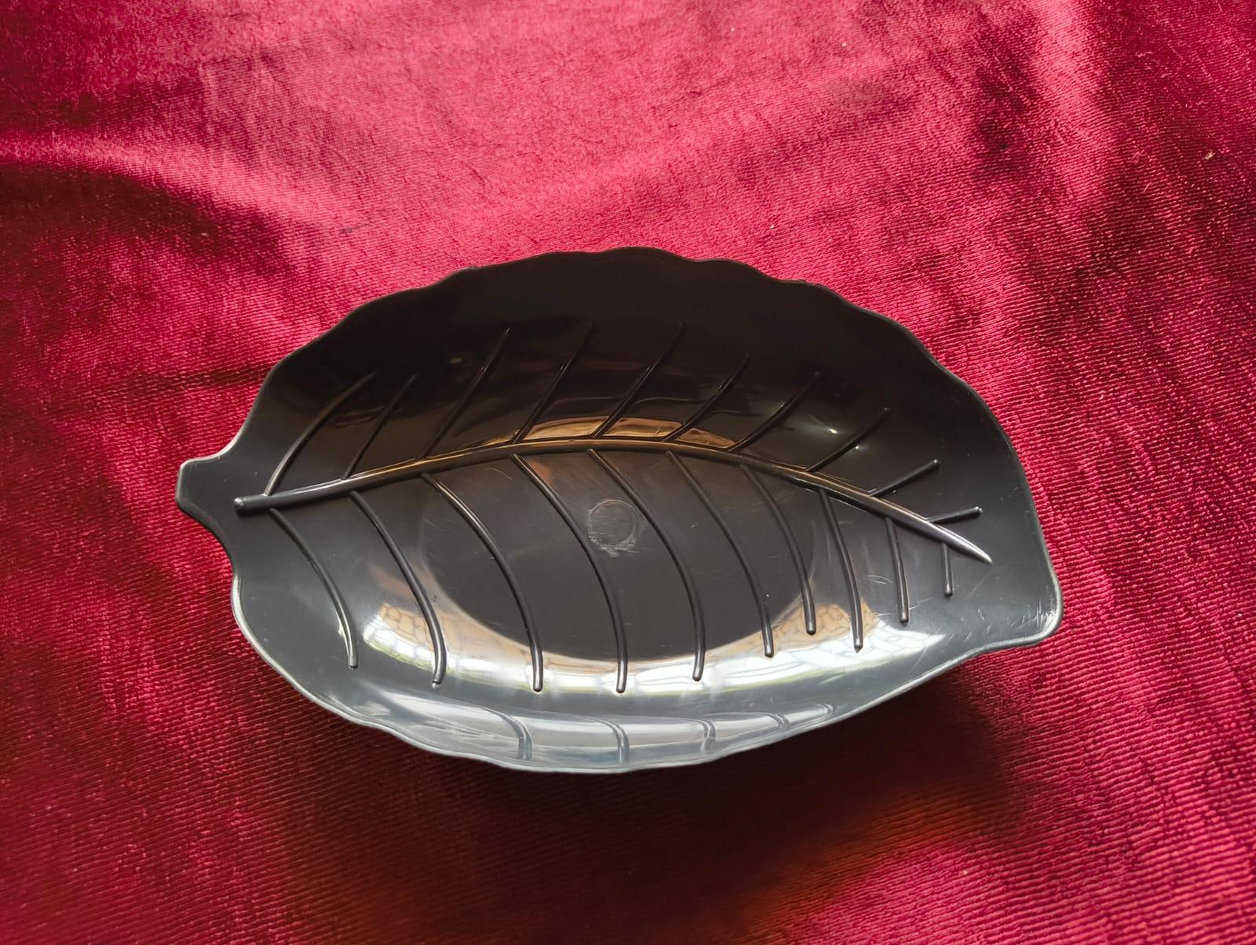plate: (170, 219, 1126, 780)
